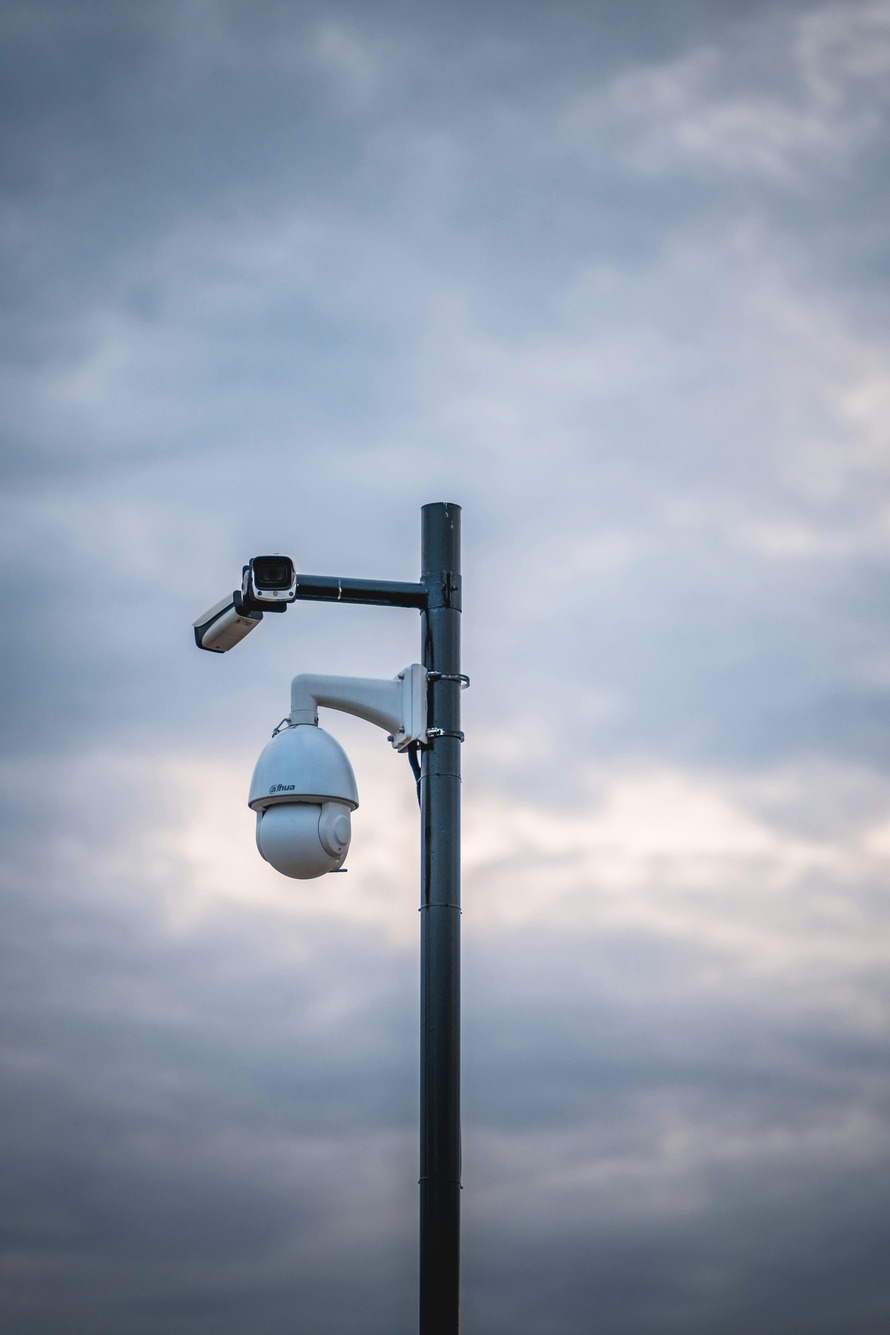camera: (180, 646, 396, 946), (124, 475, 419, 685)
